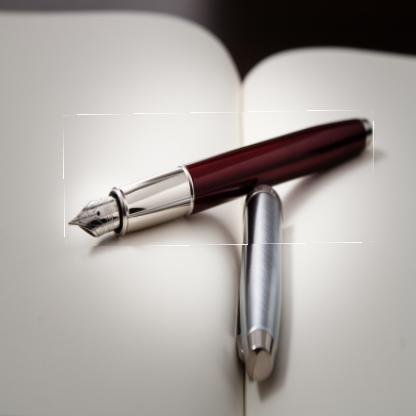Pen: (63, 112, 375, 246)
